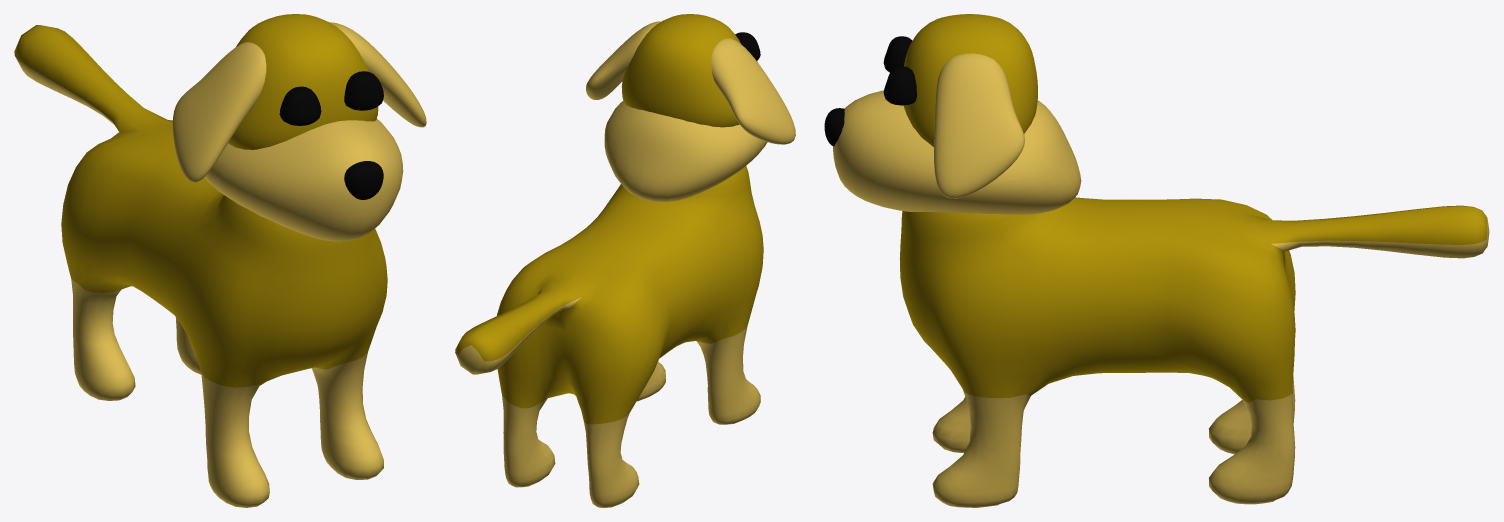
Rendered from Dog.fbx.
3 views of the same model, side by side, from view 1: azimuth 30°, elevation 25°; view 2: azimuth 150°, elevation 25°; view 3: azimuth 270°, elevation 25° (orthographic). The views are drawn at different scales.
Visible parts, largest first — view 1: Dog, Eyes_Dog; view 2: Dog; view 3: Dog, Eyes_Dog.
Part boxes in pixels (x1,y1,x2,y2): Dog: (14, 14, 426, 507); Eyes_Dog: (279, 71, 383, 125); Dog: (455, 14, 795, 507); Dog: (824, 14, 1489, 507); Eyes_Dog: (883, 36, 916, 105).
Bounding box in the file's own units: 52.67 × 98.37 × 131.
